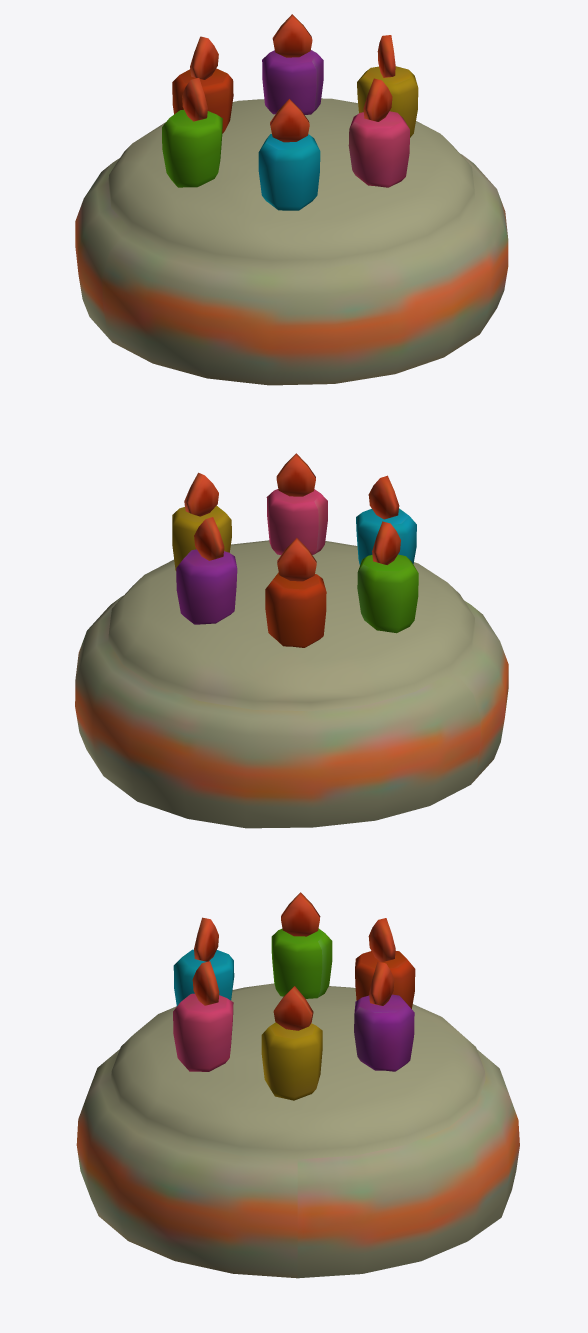
File: birthday-hat-blue.glb
The picture shows the model from 3 angles, top to bottom: view 1: azimuth 30°, elevation 25°; view 2: azimuth 150°, elevation 25°; view 3: azimuth 270°, elevation 25°; orthographic projection.
Size of the model in its own units: 10.56 by 5.18 by 10.27.
Materials: 1 (1 with a texture image).
